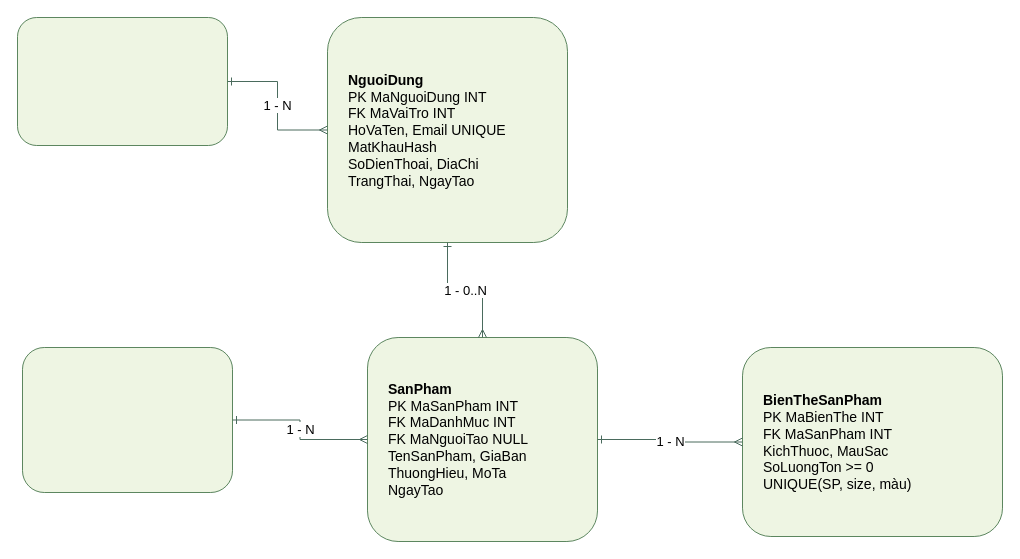
This 1020x559 diagram has some shape labels left out. Each missing label, with the centre of its shape:
DanhMuc PK MaDanhMuc INT TenDanhMuc UNIQUE MoTa: (127,419)
VaiTro PK MaVaiTro INT TenVaiTro NVARCHAR MoTa NVARCHAR: (122,81)
